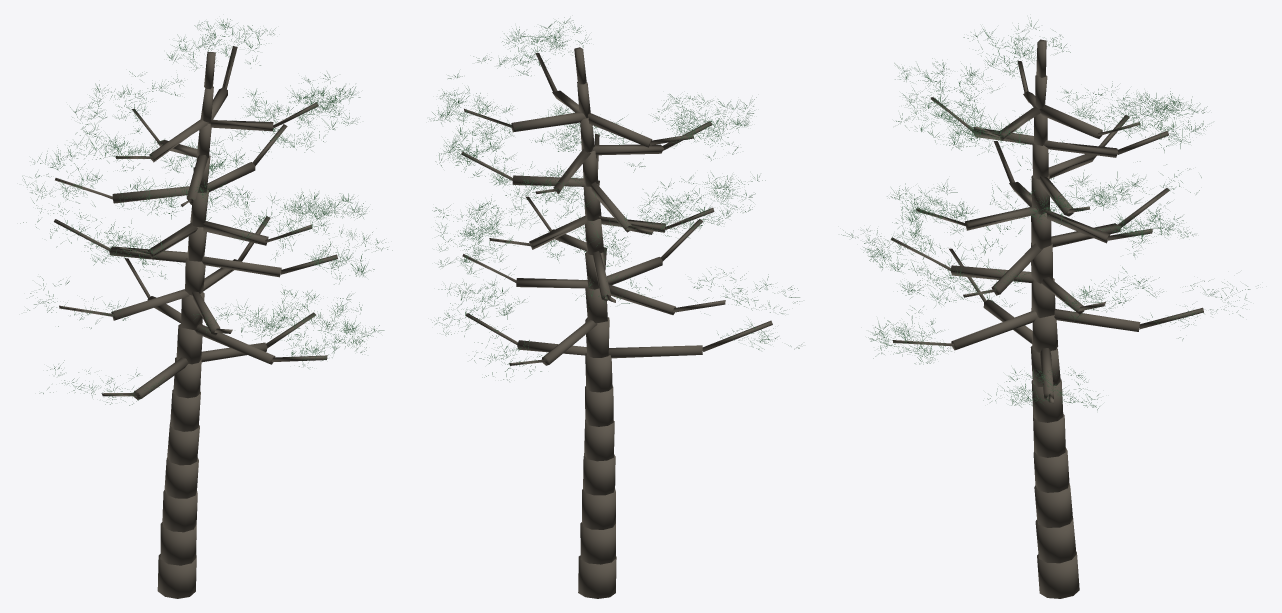
The model's file is Production_CoastalPine_0-mobile.glb.
3 views of the same model, side by side, from view 1: azimuth 30°, elevation 25°; view 2: azimuth 150°, elevation 25°; view 3: azimuth 270°, elevation 25° (orthographic). The views are drawn at different scales.
Parts seen in each view (by area): view 1: Production_CoastalPine_0_Landscape_PineBark, Production_CoastalPine_0_Landscape_Needles; view 2: Production_CoastalPine_0_Landscape_PineBark, Production_CoastalPine_0_Landscape_Needles; view 3: Production_CoastalPine_0_Landscape_PineBark, Production_CoastalPine_0_Landscape_Needles.
Part boxes in pixels (x1,y1,x2,y2): Production_CoastalPine_0_Landscape_PineBark: (54,46,337,598); Production_CoastalPine_0_Landscape_Needles: (20,18,392,405); Production_CoastalPine_0_Landscape_PineBark: (461,47,772,598); Production_CoastalPine_0_Landscape_Needles: (429,17,801,381); Production_CoastalPine_0_Landscape_PineBark: (890,39,1203,598); Production_CoastalPine_0_Landscape_Needles: (841,17,1258,410).
Size of the model in its own units: 7.24 by 10.53 by 7.3.
